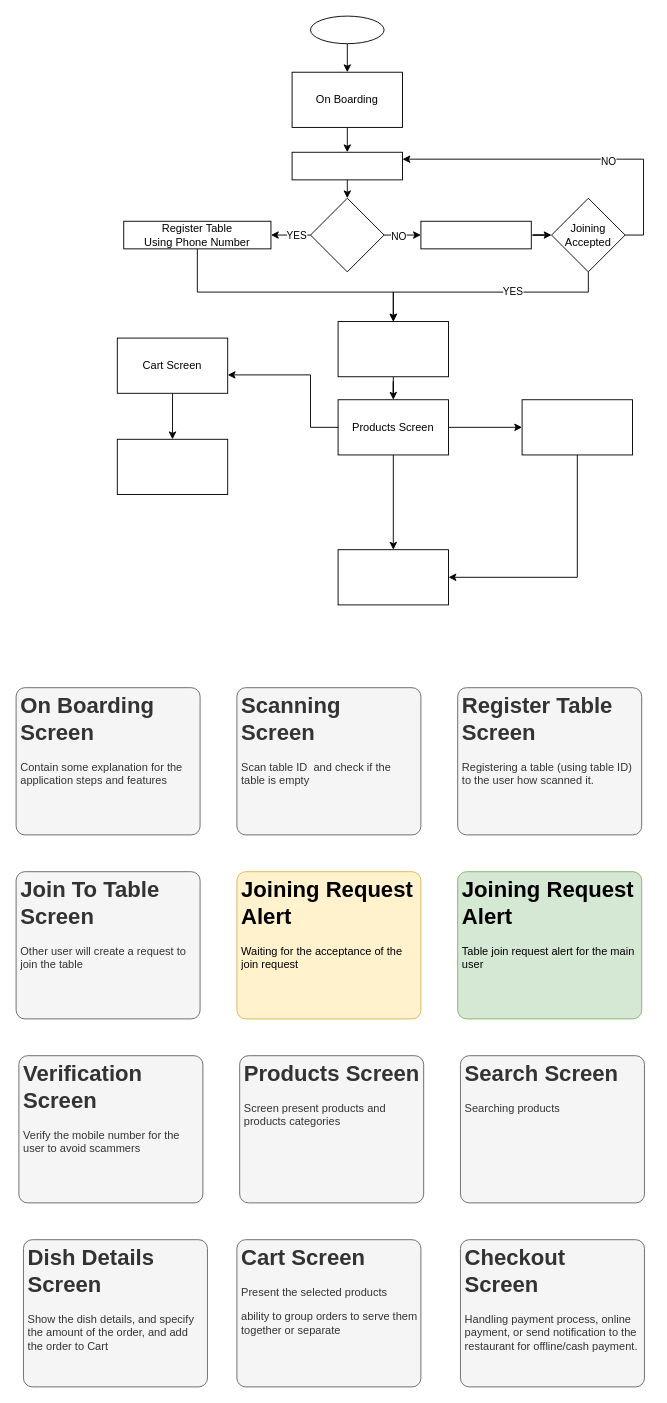
Some shapes in this 667 by 1403 pixel diagram are drawn without their labels. The shapes that lost their labels are listed below. From the top down, each one's centre as x and y in pixels, then its label:
point (347, 29): Start
point (346, 165): Scanning Screen
point (347, 234): Table Is Empty
point (475, 234): Join Table Using Phone Number
point (392, 349): Verify Using Phone Or Email
point (576, 427): Search
point (172, 466): Checkout Screen
point (392, 577): Dish Details
